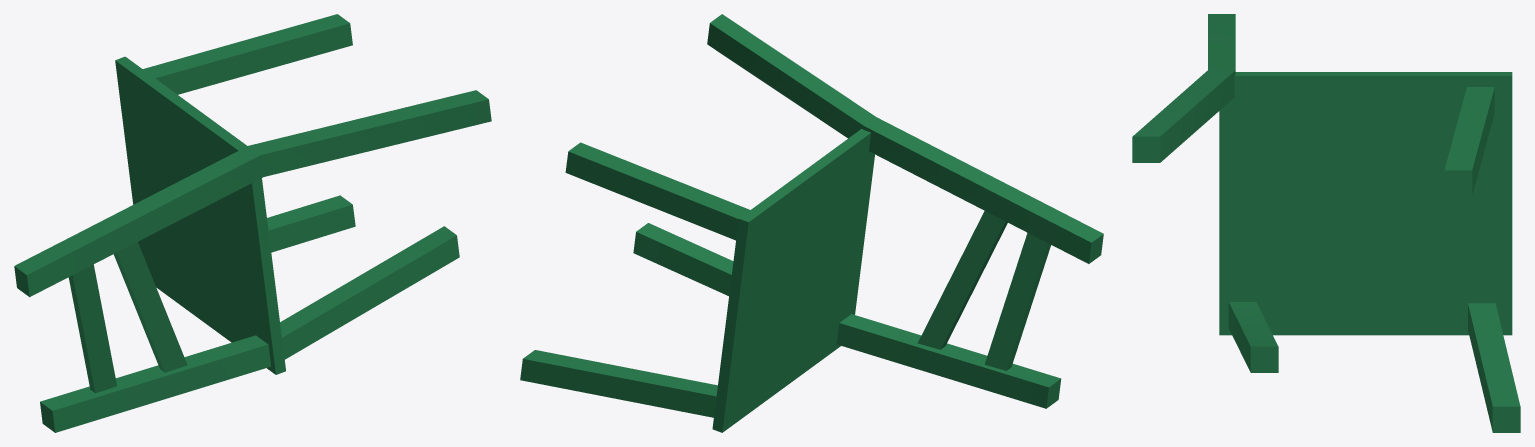
File: chaise low.FBX
3 renders of one model, left to right at view 1: azimuth 30°, elevation 25°; view 2: azimuth 150°, elevation 25°; view 3: azimuth 270°, elevation 25°, orthographic. The views are drawn at different scales.
Parts seen in each view (by area): view 1: Box104; view 2: Box104; view 3: Box104.
Boxes of the visible parts, x1,y1,x2,y2 form: Box104: (14,14,491,432); Box104: (520,14,1103,432); Box104: (1132,14,1520,432).
Bounding box in the file's own units: 105 × 59.03 × 70.04.
